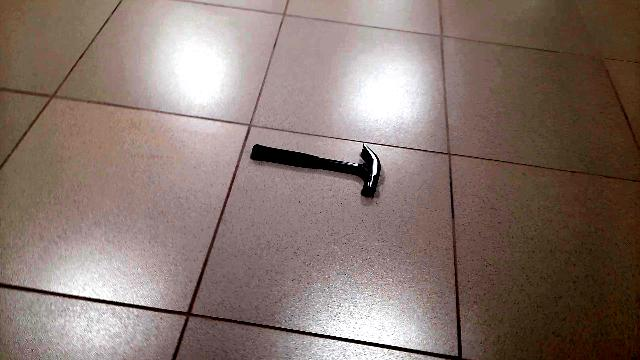hammer: (248, 130, 390, 200)
